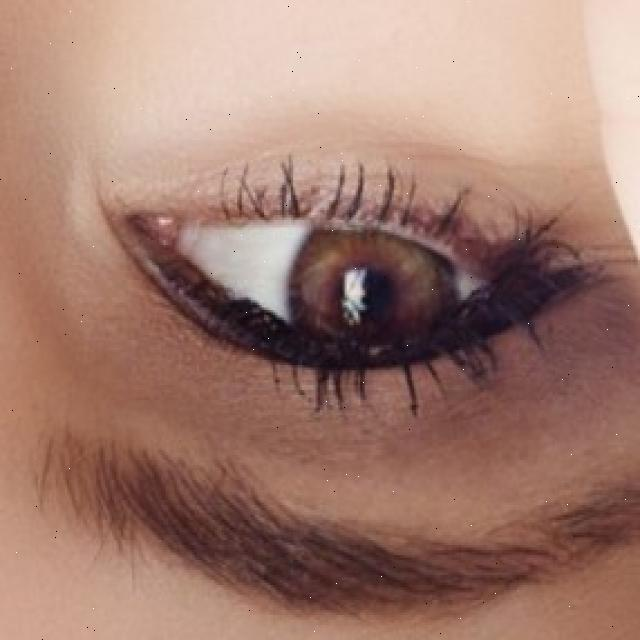Normal: (286, 200, 458, 378)
